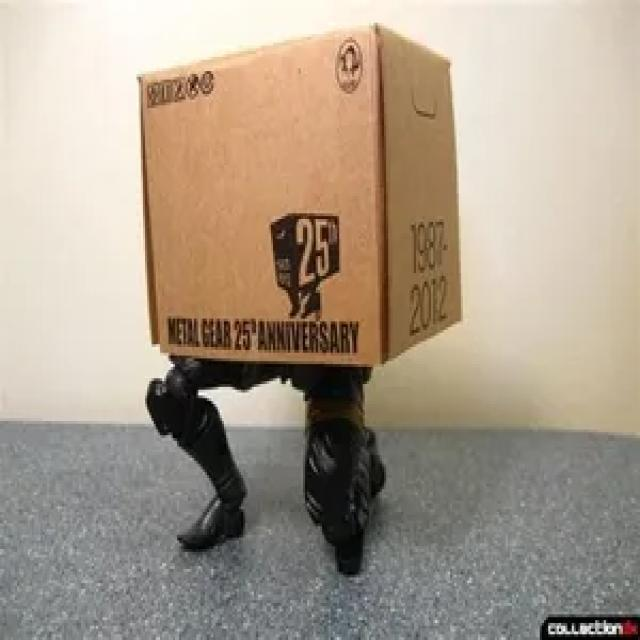snake-in-cardboard-boxes: (133, 21, 466, 367)
